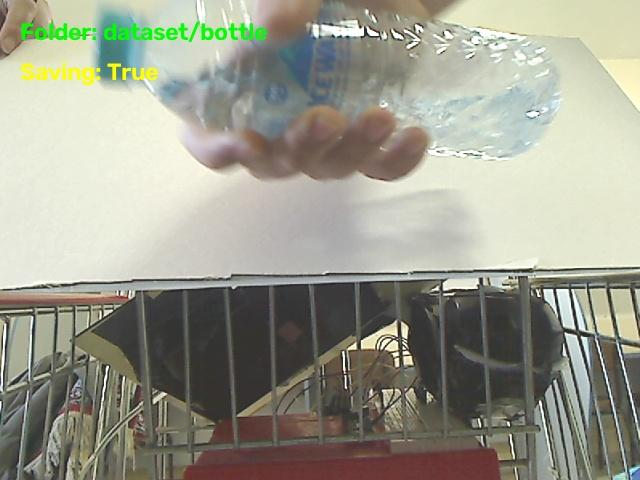Bottle: (94, 0, 559, 158)
